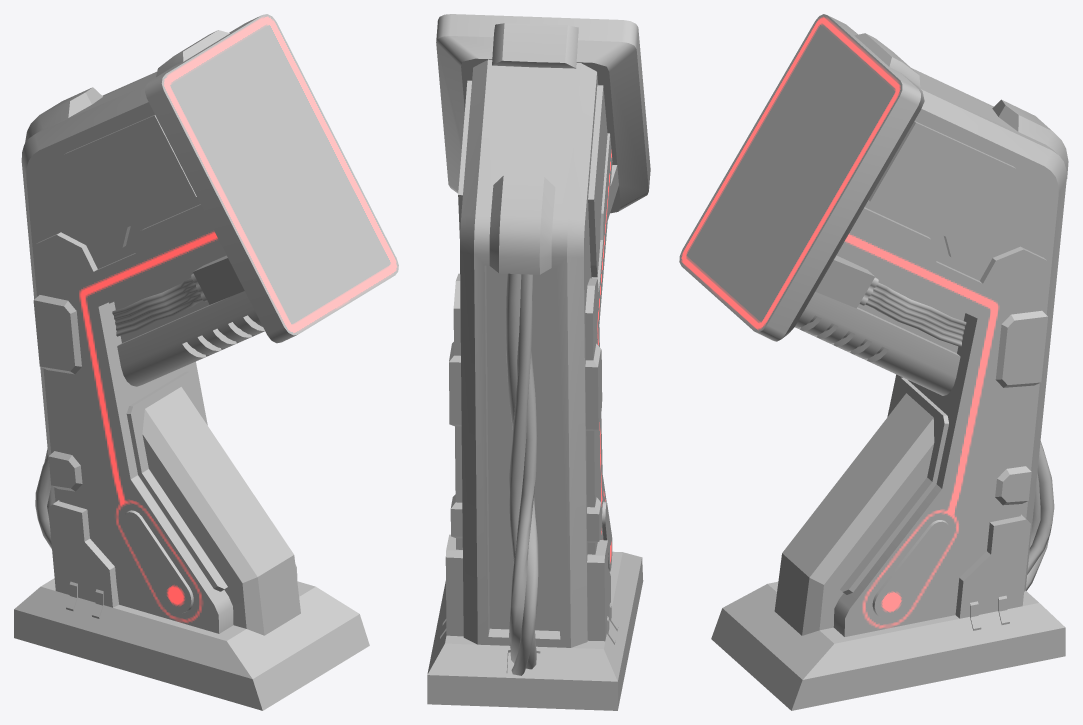
The model's file is Terminal UV_1.fbx.
The picture shows the model from 3 angles, left to right: view 1: azimuth 30°, elevation 25°; view 2: azimuth 150°, elevation 25°; view 3: azimuth 270°, elevation 25°; orthographic projection.
Parts seen in each view (by area): view 1: LP1.008; view 2: LP1.008; view 3: LP1.008.
Boxes of the visible parts, x1,y1,x2,y2 form: LP1.008: (14, 14, 398, 710); LP1.008: (427, 14, 650, 710); LP1.008: (679, 14, 1068, 710).
Size of the model in its own units: 68.51 by 144 by 84.21.
